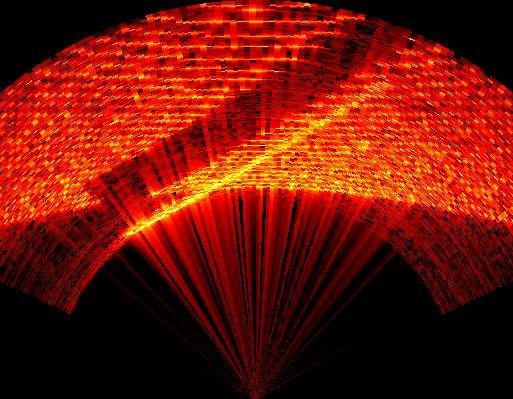pipe: (88, 16, 422, 231)
